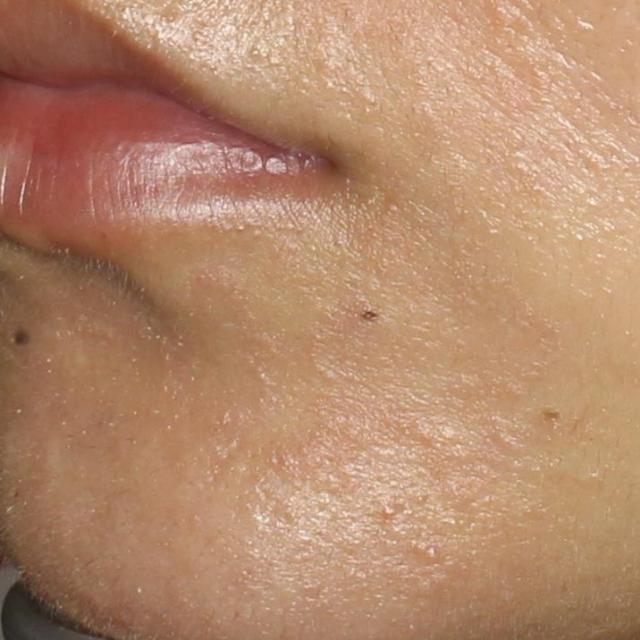blackhead: (15, 330, 30, 346), (362, 311, 376, 321)
